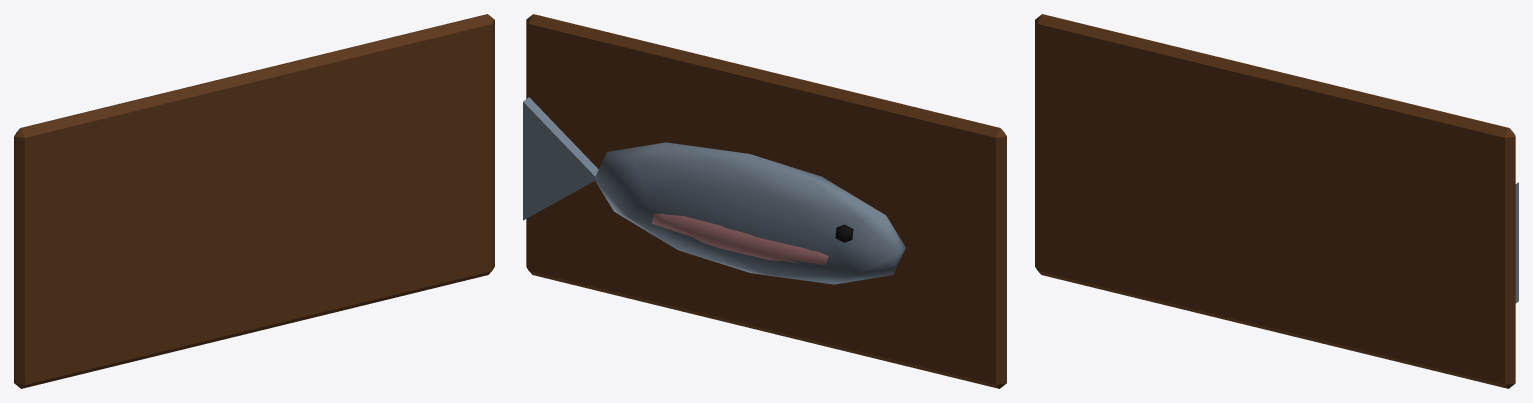
Rendered from trout_plaque_v0.glb.
3 renders of one model, left to right at view 1: azimuth 30°, elevation 25°; view 2: azimuth 150°, elevation 25°; view 3: azimuth 330°, elevation 25°, orthographic.
Parts seen in each view (by area): view 1: trout_plaque_v0; view 2: trout_plaque_v0; view 3: trout_plaque_v0.
Boxes of the visible parts, bbox=[...] form: trout_plaque_v0: bbox=[14, 14, 494, 388]; trout_plaque_v0: bbox=[523, 14, 1006, 388]; trout_plaque_v0: bbox=[1035, 14, 1518, 388].
Size of the model in its own units: 1.35 by 0.7 by 0.1813.
